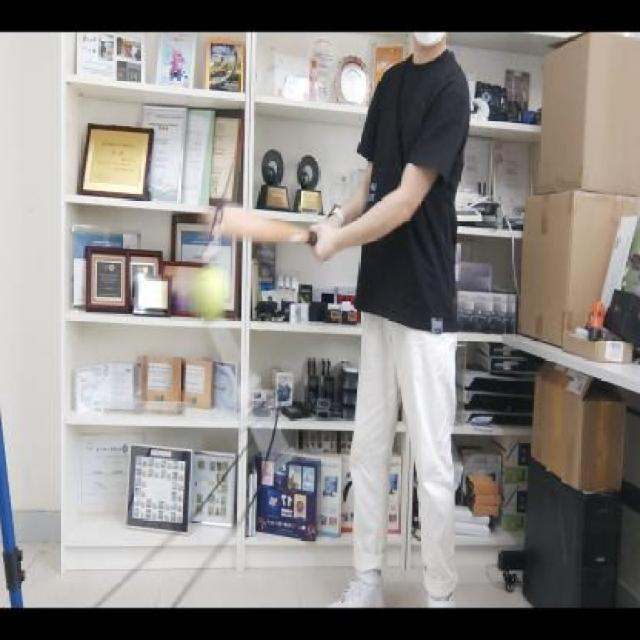baseball: (188, 265, 232, 330)
